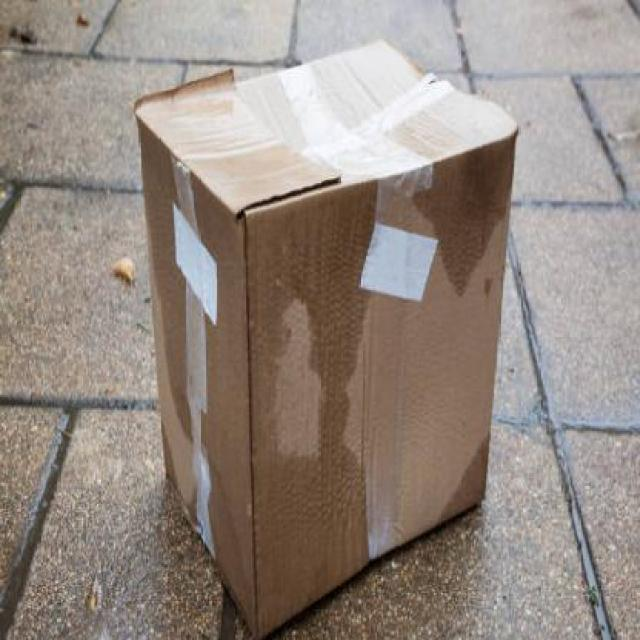box: (128, 37, 535, 640)
